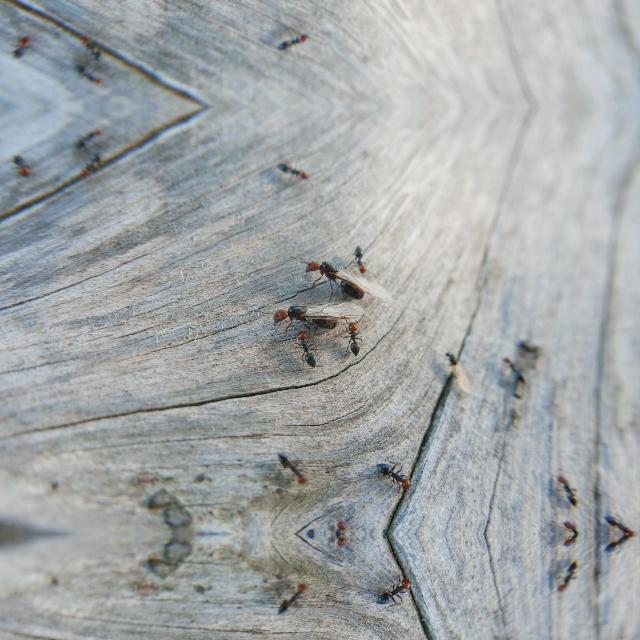Crematogaster: (266, 296, 346, 334), (305, 253, 369, 300), (274, 441, 316, 485), (274, 582, 316, 626), (287, 324, 325, 370), (496, 352, 534, 392), (341, 316, 369, 362), (374, 461, 414, 492), (550, 471, 582, 509), (550, 558, 582, 596), (374, 576, 414, 606), (448, 351, 472, 399), (72, 126, 106, 152), (72, 60, 106, 86), (77, 150, 103, 180), (77, 32, 103, 62), (604, 513, 640, 533), (8, 148, 32, 178), (604, 534, 640, 554), (8, 34, 32, 64), (280, 162, 308, 184), (280, 28, 308, 50), (352, 242, 370, 276), (551, 515, 581, 533), (551, 534, 581, 552)
